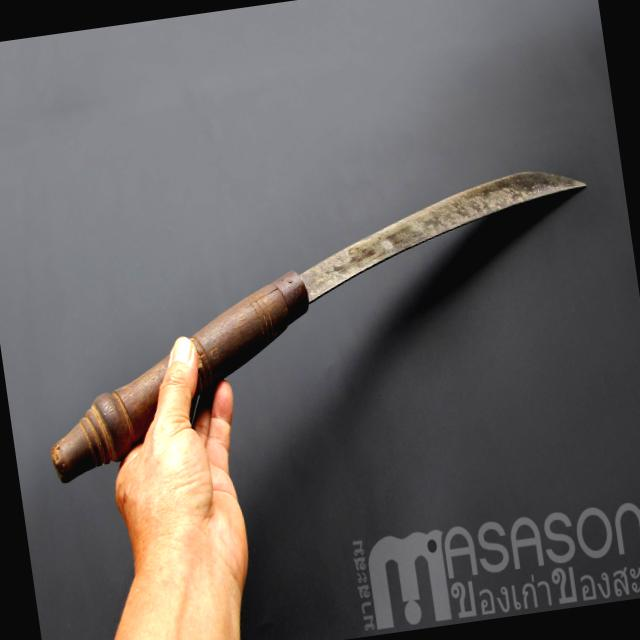long sword: (22, 155, 619, 481)
